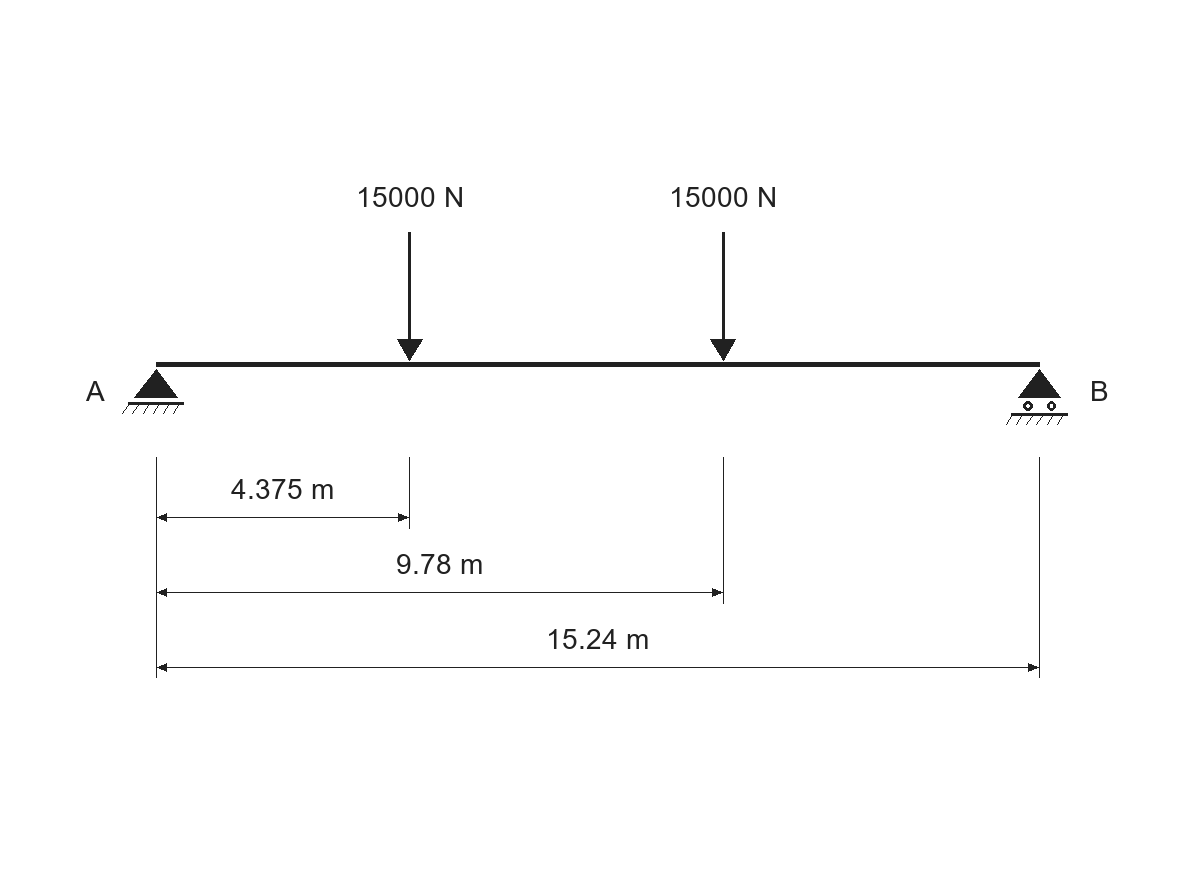pin_support: (122, 369, 184, 414)
point_load: (397, 232, 423, 361), (710, 232, 736, 361)
roller_support: (1006, 369, 1068, 425)
